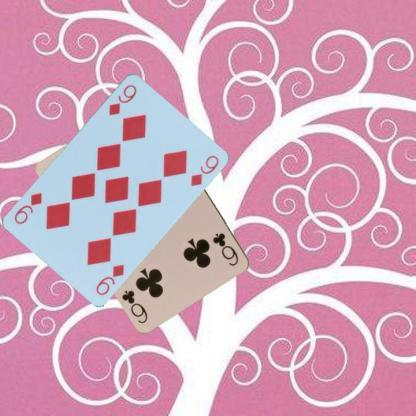6c: (210, 230, 240, 268)
9d: (93, 262, 126, 296), (106, 81, 138, 116)
